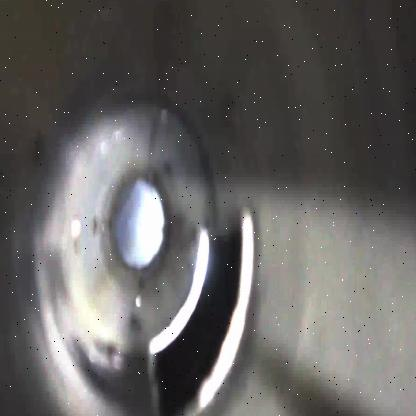Crack2: (146, 221, 259, 416)
